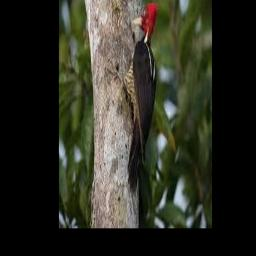Woodpecker: (107, 1, 158, 193)
